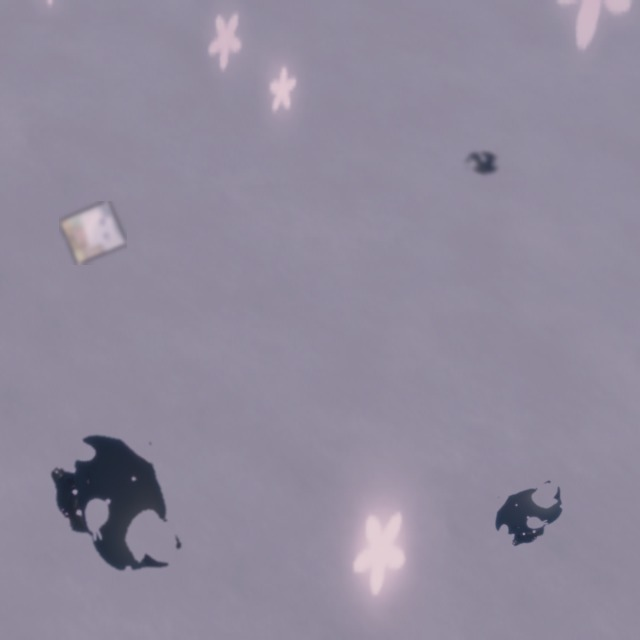urso_branco: (59, 201, 127, 265)
urso_preto: (14, 387, 220, 622), (471, 461, 588, 565), (459, 145, 506, 183)
